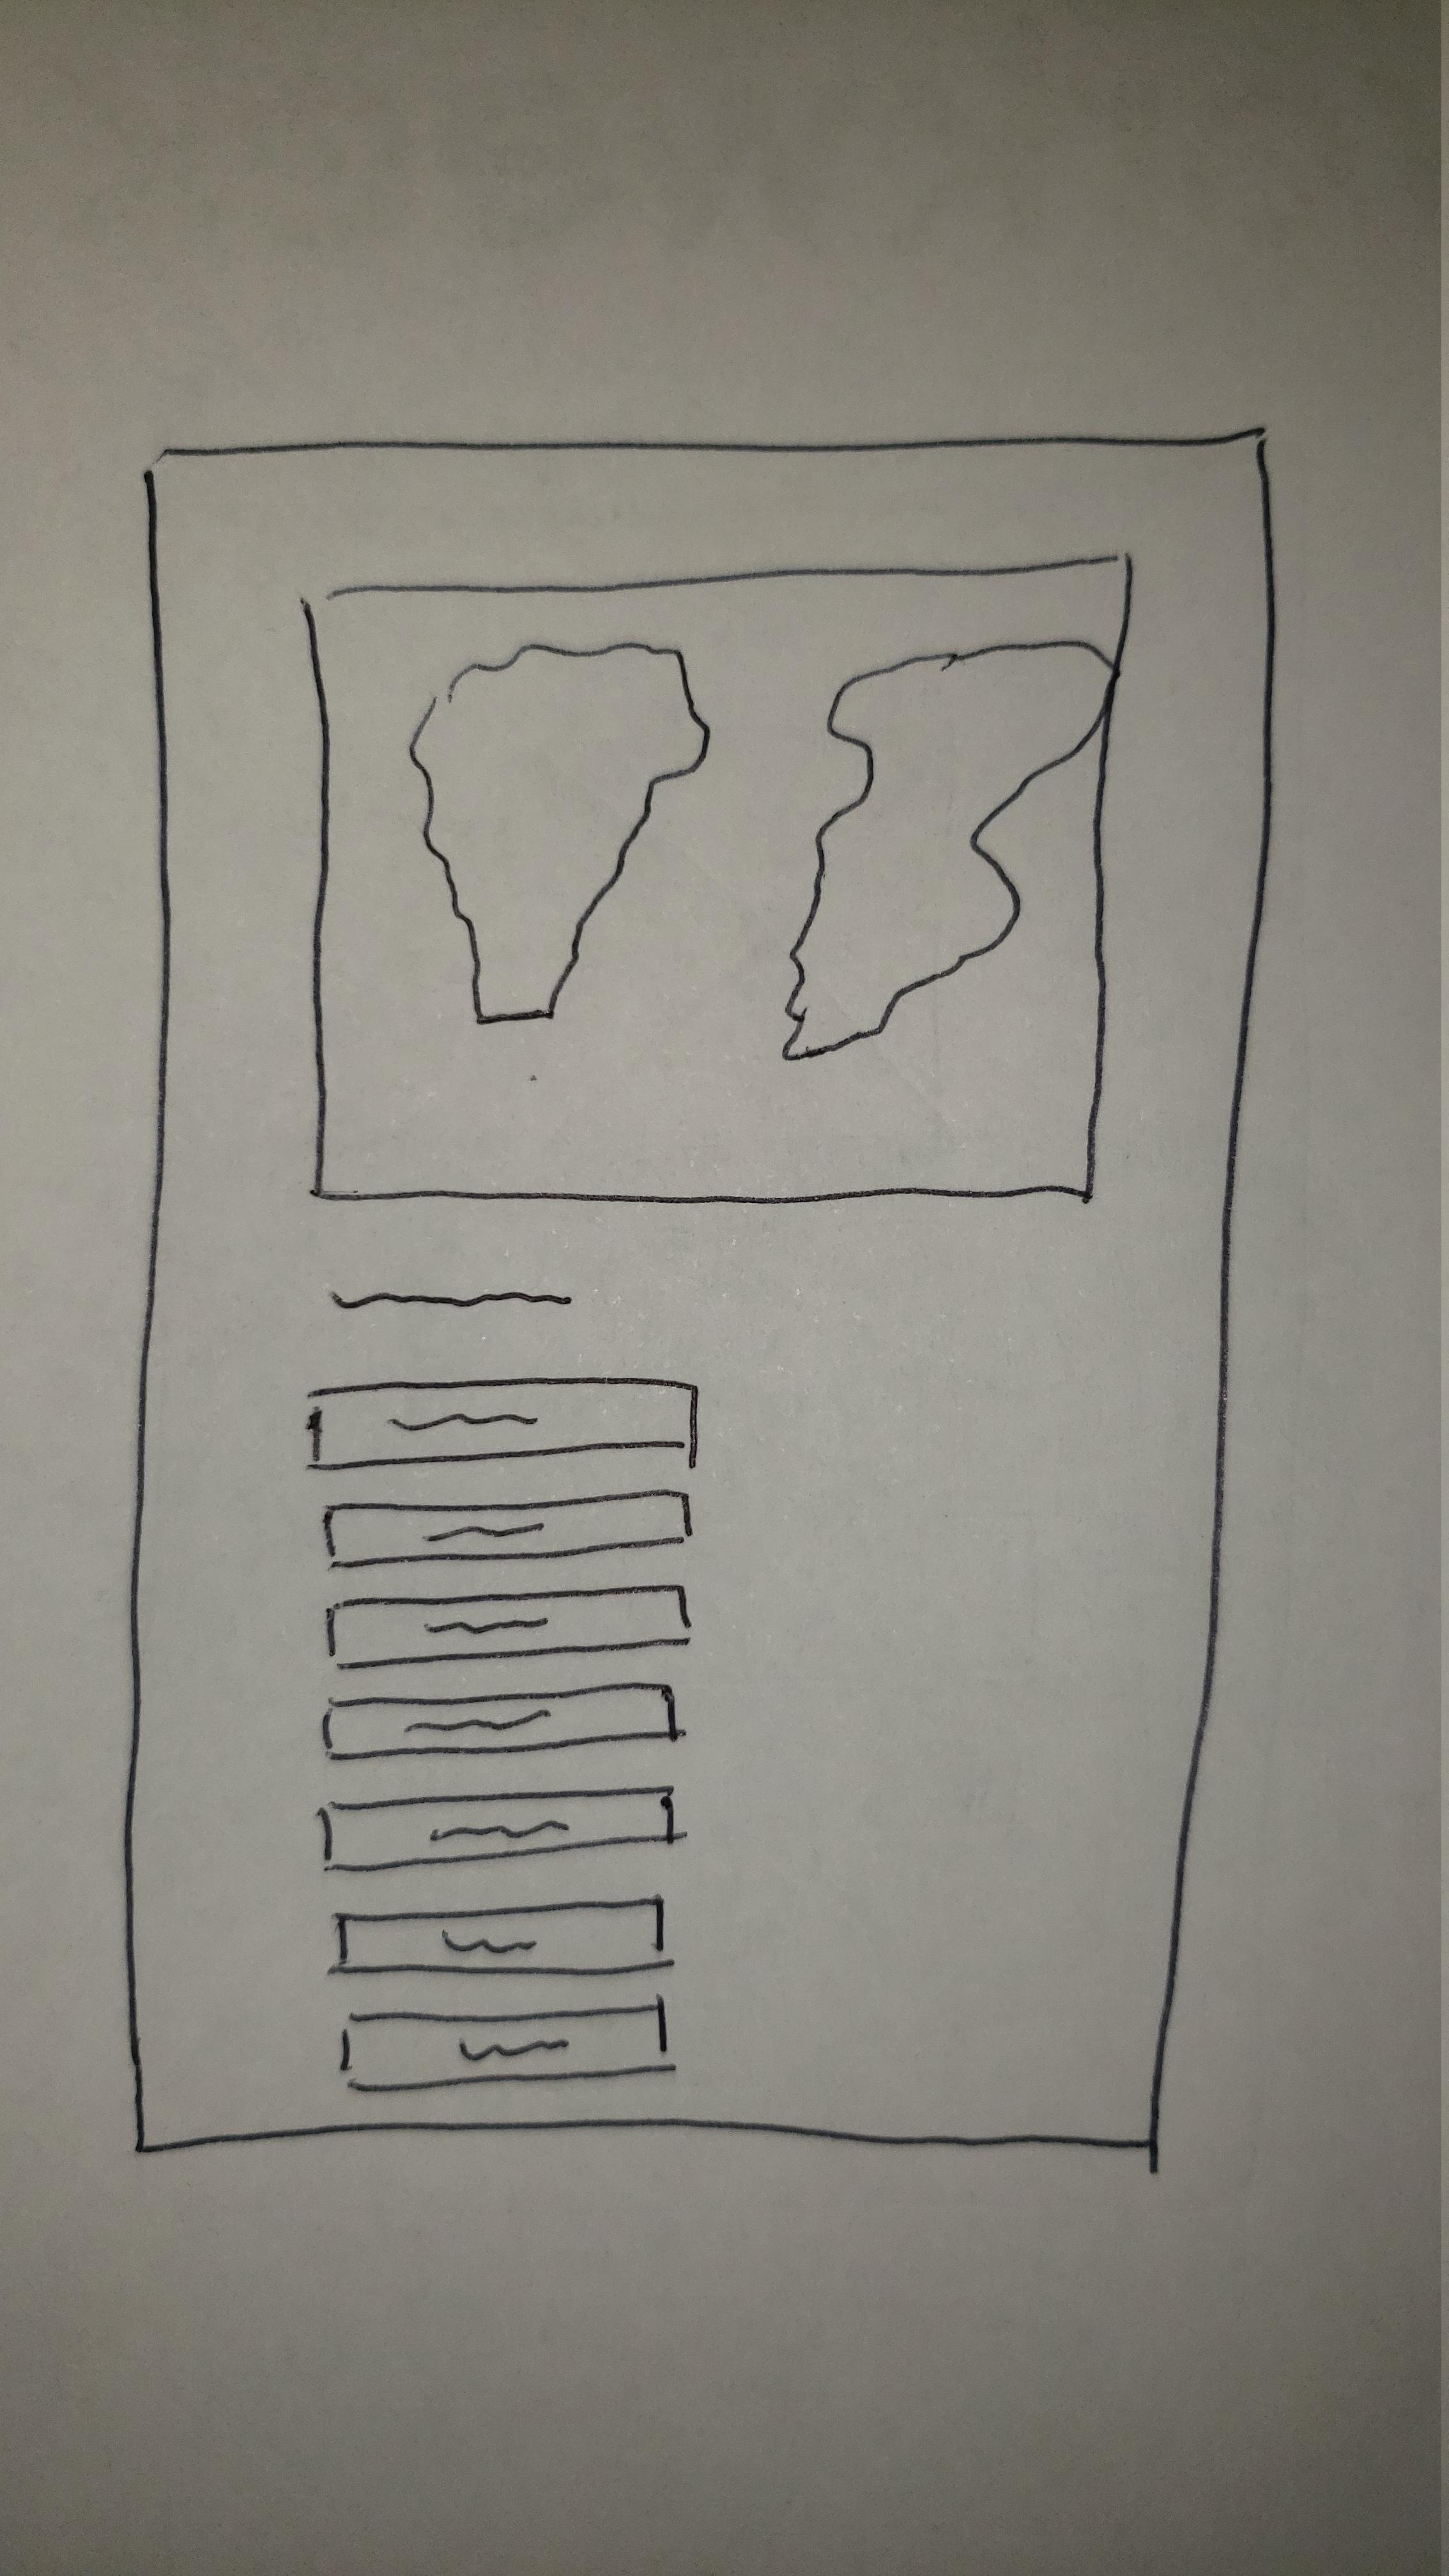Button: (304, 1376, 702, 1472), (334, 1999, 676, 2093), (320, 1785, 681, 1872), (322, 1490, 694, 1573), (320, 1585, 692, 1668), (320, 1683, 683, 1760), (331, 1895, 674, 1976)
Label: (329, 1288, 571, 1311)
Map: (299, 552, 1134, 1205)
Screen: (127, 425, 1277, 2157)
